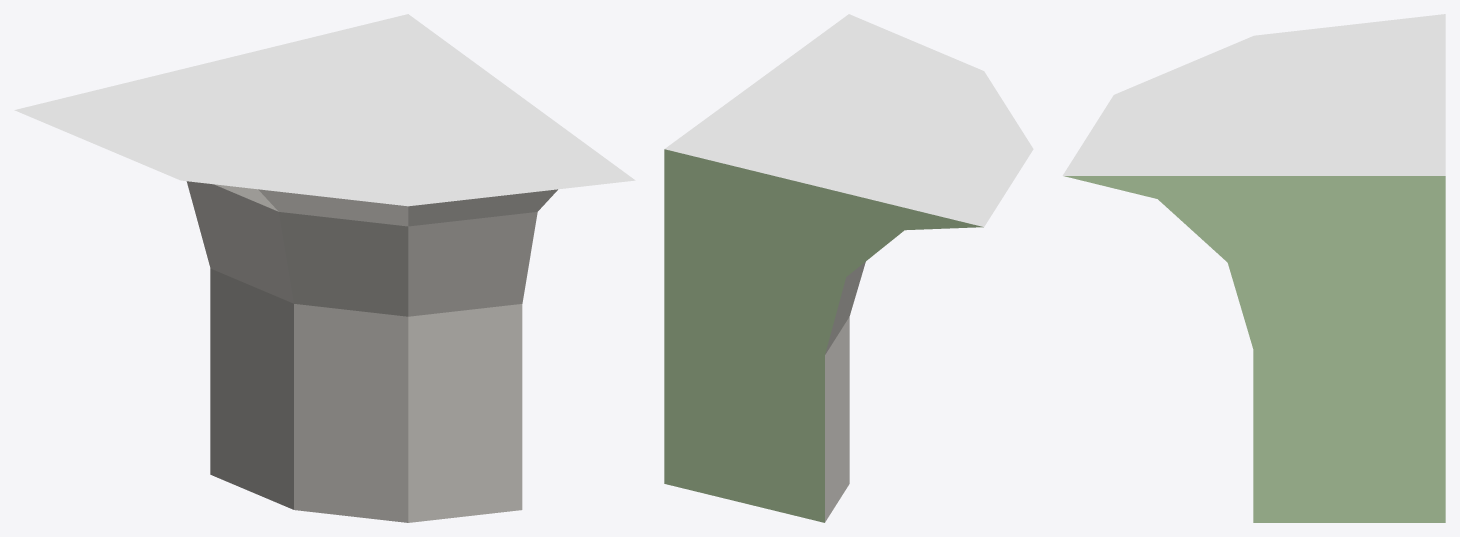
The model's file is Wall_Curve_Outer_2x2_Top.glb.
The picture shows the model from 3 angles, left to right: view 1: azimuth 30°, elevation 25°; view 2: azimuth 150°, elevation 25°; view 3: azimuth 270°, elevation 25°; orthographic projection. The views are drawn at different scales.
Parts seen in each view (by area): view 1: Wall_Curve_Outer_2x2_Top; view 2: Wall_Curve_Outer_2x2_Top; view 3: Wall_Curve_Outer_2x2_Top.
Boxes of the visible parts, x1,y1,x2,y2 form: Wall_Curve_Outer_2x2_Top: (14,14,635,522); Wall_Curve_Outer_2x2_Top: (664,14,1033,522); Wall_Curve_Outer_2x2_Top: (1062,14,1445,522).
Size of the model in its own units: 200 by 200 by 200.
